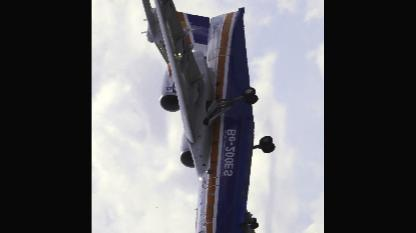B52: (130, 0, 283, 232)
